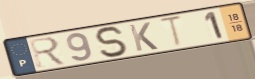1: (203, 10, 225, 40)
9: (64, 31, 94, 63)
K: (127, 21, 160, 53)
R: (27, 35, 69, 70)
S: (93, 25, 132, 59)
T: (158, 14, 185, 49)
